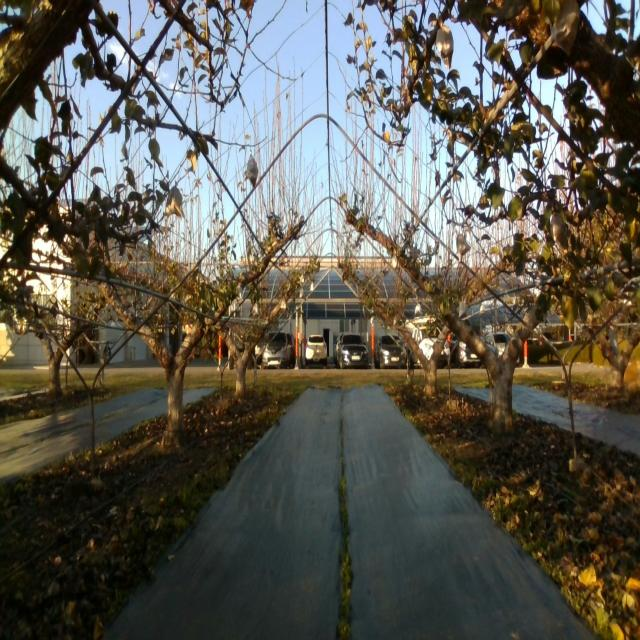pearbags: (436, 27, 454, 70), (165, 186, 186, 218), (456, 235, 471, 262), (248, 155, 259, 187), (458, 300, 469, 318)
